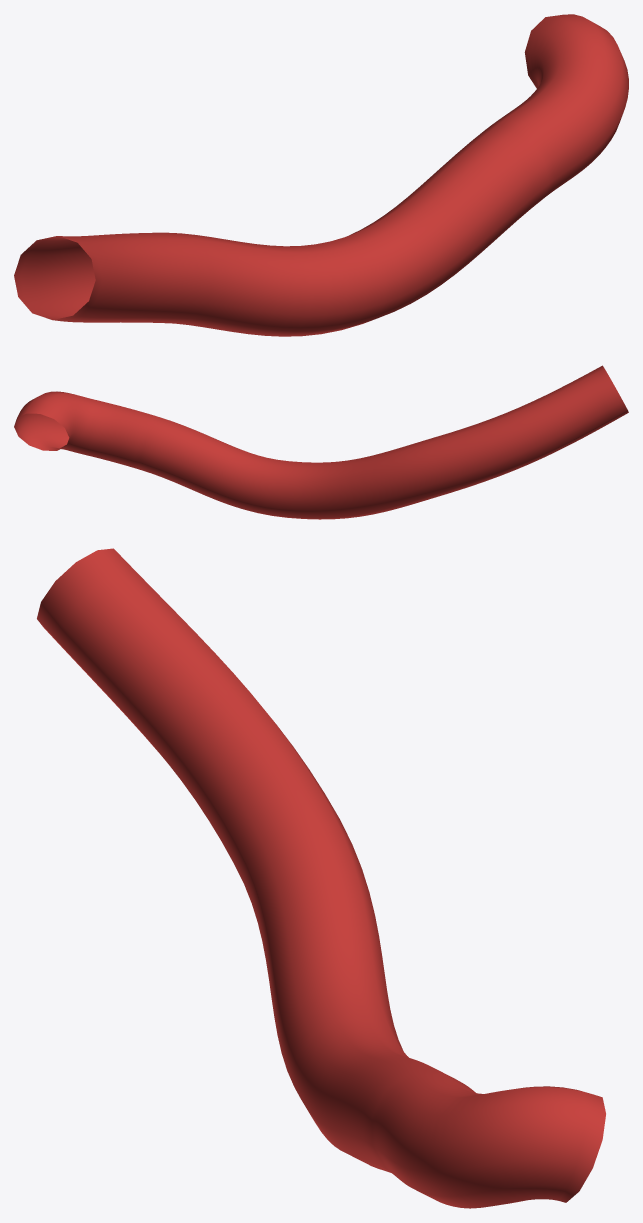
The picture shows the model from 3 angles, top to bottom: view 1: azimuth 30°, elevation 25°; view 2: azimuth 150°, elevation 25°; view 3: azimuth 270°, elevation 25°; orthographic projection. The views are drawn at different scales.
Visible parts, largest first — view 1: 右侧大脑中动脉M1段; view 2: 右侧大脑中动脉M1段; view 3: 右侧大脑中动脉M1段.
Boxes of the visible parts, x1,y1,x2,y2 form: 右侧大脑中动脉M1段: (14,14,628,336); 右侧大脑中动脉M1段: (14,365,628,519); 右侧大脑中动脉M1段: (37,548,605,1208).
Bounding box in the file's own units: 0.0434 × 0.0136 × 0.0217.
